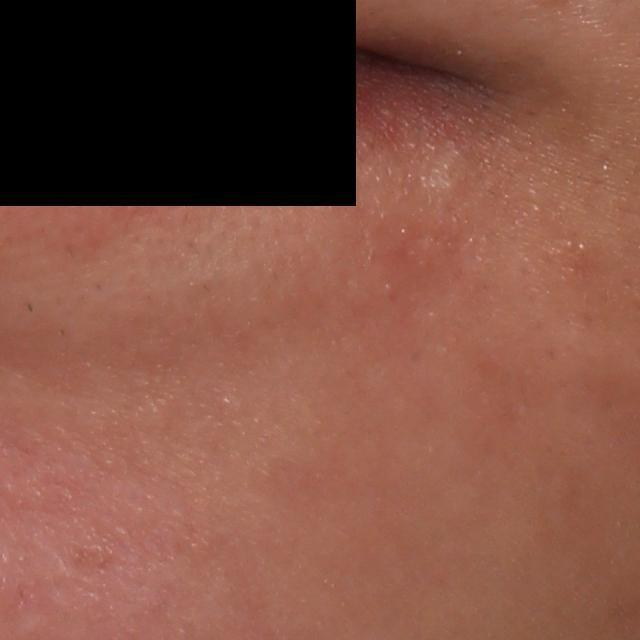hypertrophic_scar: (429, 145, 474, 205)
